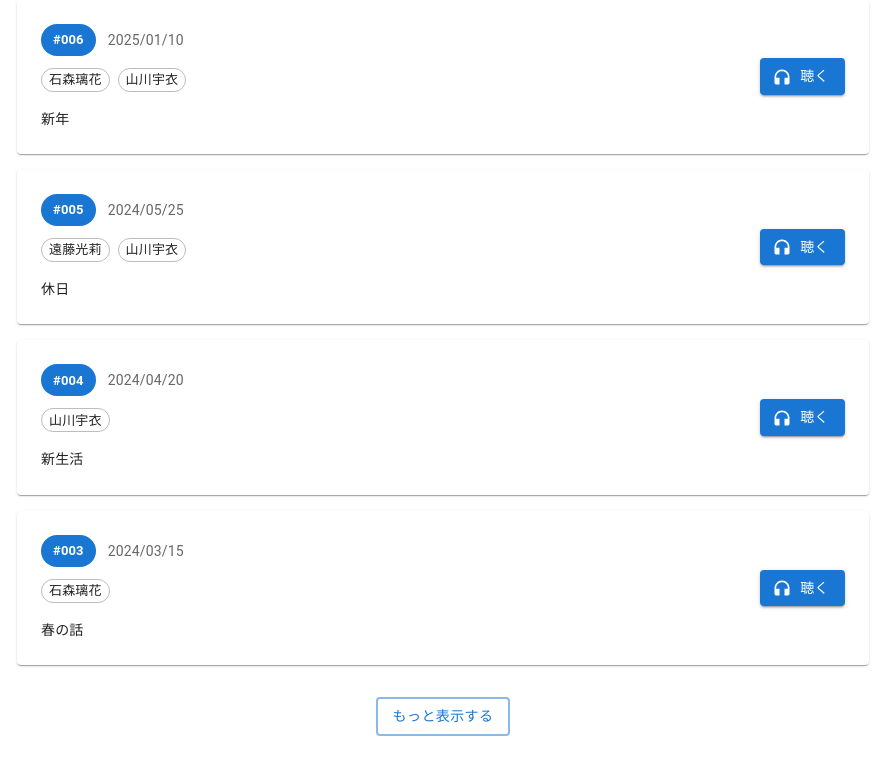
Test case: SearchContainer › ソート変更時に表示件数を10件へ戻す
(page scrolled)
Step 1. Click the button "もっと表示する" → (443,716), box [376,697,510,736]
(page scrolled)
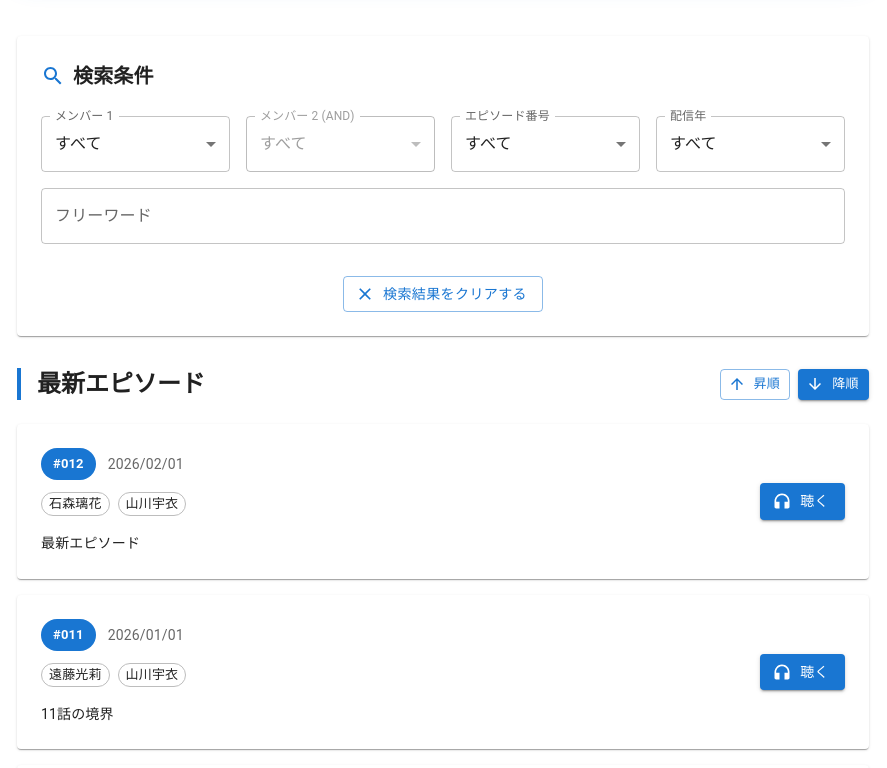
Step 2. Click the button "昇順" → (755,384), box [720,369,790,400]
(page scrolled)
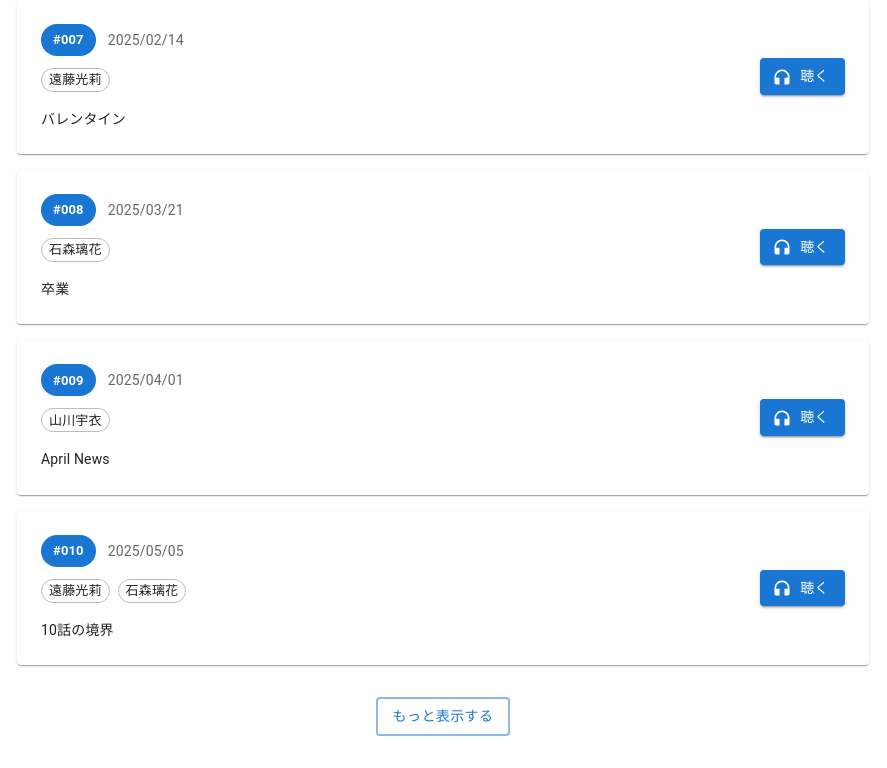
Result: the number of links "聴く" is 10
Result: the text "#011" is gone
Result: the button "もっと表示する" is shown at [376,697,510,736]
